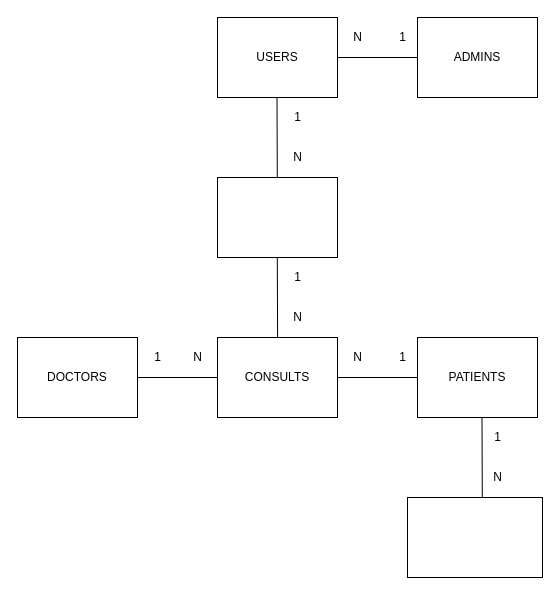
Some shapes in this 560 by 595 pixel diagram are drawn without their labels. The shapes that lost their labels are listed below. From the top down, each one's centre as x and y in pixels, then its label:
point (277, 217): SECRETARIES
point (474, 537): MEDICAL_HISTORIES
